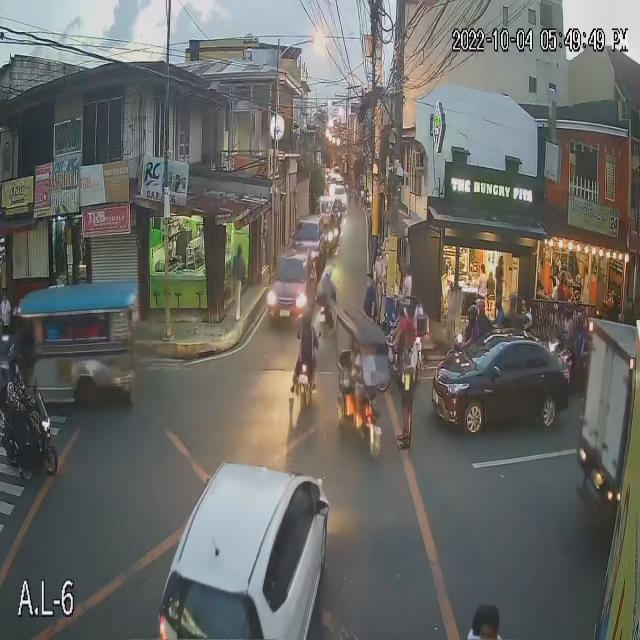helmet: (1, 341, 35, 383), (296, 307, 315, 339), (471, 297, 492, 319), (572, 309, 592, 328), (464, 305, 481, 326), (319, 264, 334, 286), (561, 299, 576, 321), (519, 312, 532, 333)
motorcycle: (0, 398, 63, 482), (283, 356, 326, 412), (313, 292, 342, 339)
rider: (0, 341, 28, 459), (289, 309, 321, 371), (313, 263, 338, 320), (469, 293, 495, 344), (459, 303, 479, 359), (554, 299, 576, 347), (570, 309, 592, 355), (518, 307, 540, 343)
